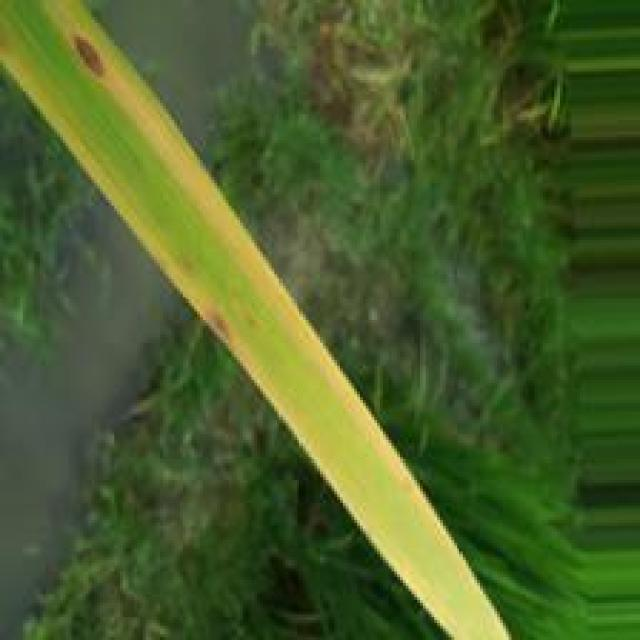Brown_Spot: (65, 31, 110, 84), (206, 309, 231, 349)
